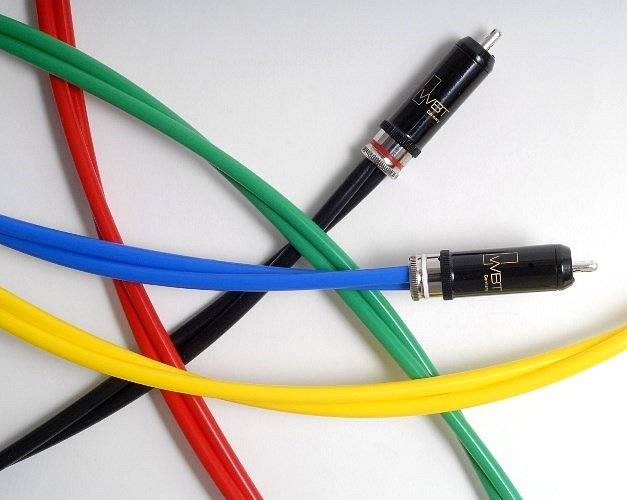more_tube: (10, 9, 359, 499)
